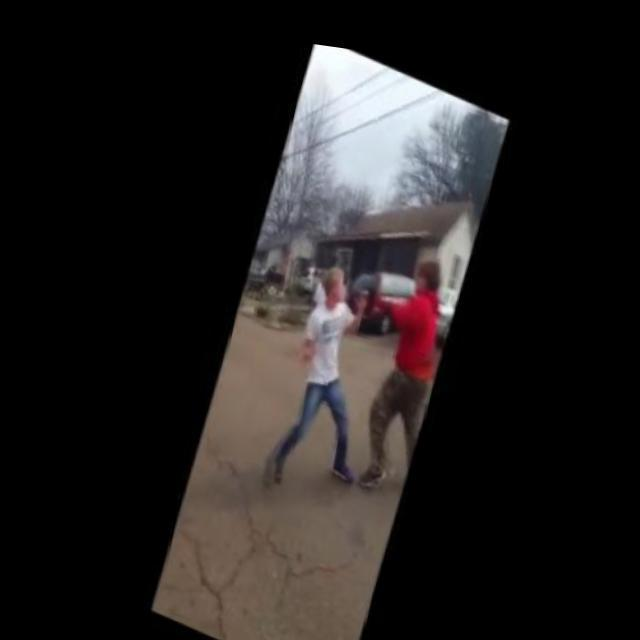fight: (255, 205, 450, 520)
